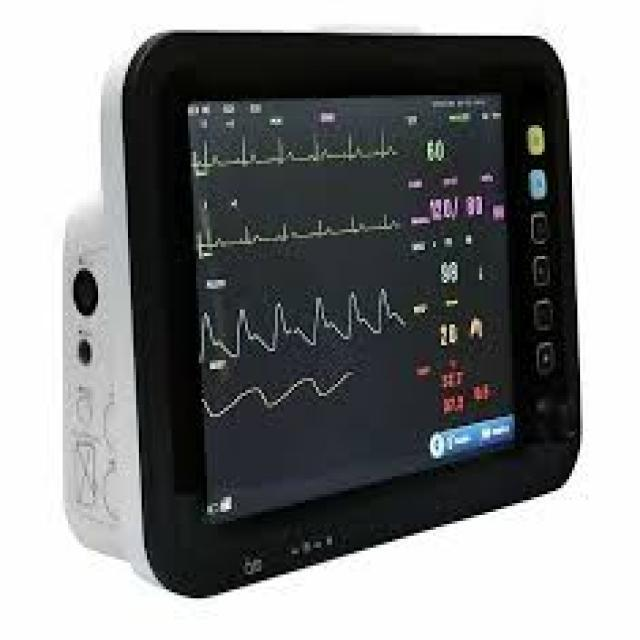cardiac_monitor: (101, 37, 597, 569)
